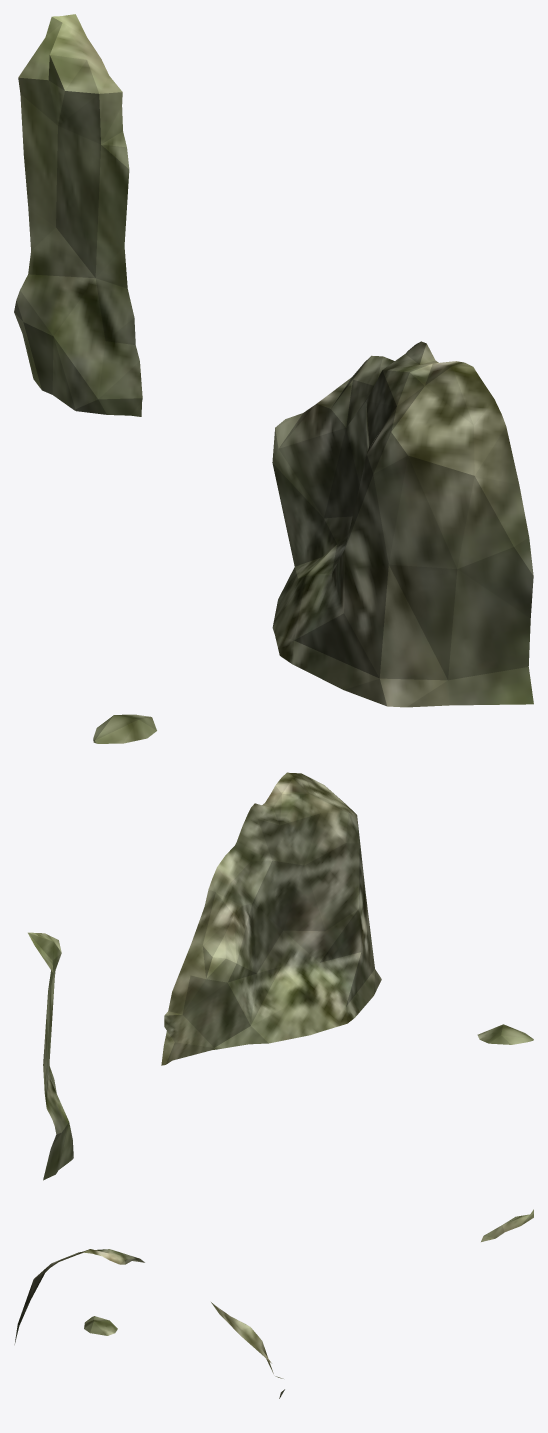
The picture shows the model from 3 angles, top to bottom: view 1: azimuth 30°, elevation 25°; view 2: azimuth 150°, elevation 25°; view 3: azimuth 270°, elevation 25°; orthographic projection. The views are drawn at different scales.
Bounding box in the file's own units: 1.24 × 1.15 × 2.66.
Materials: 1 (1 with a texture image).
